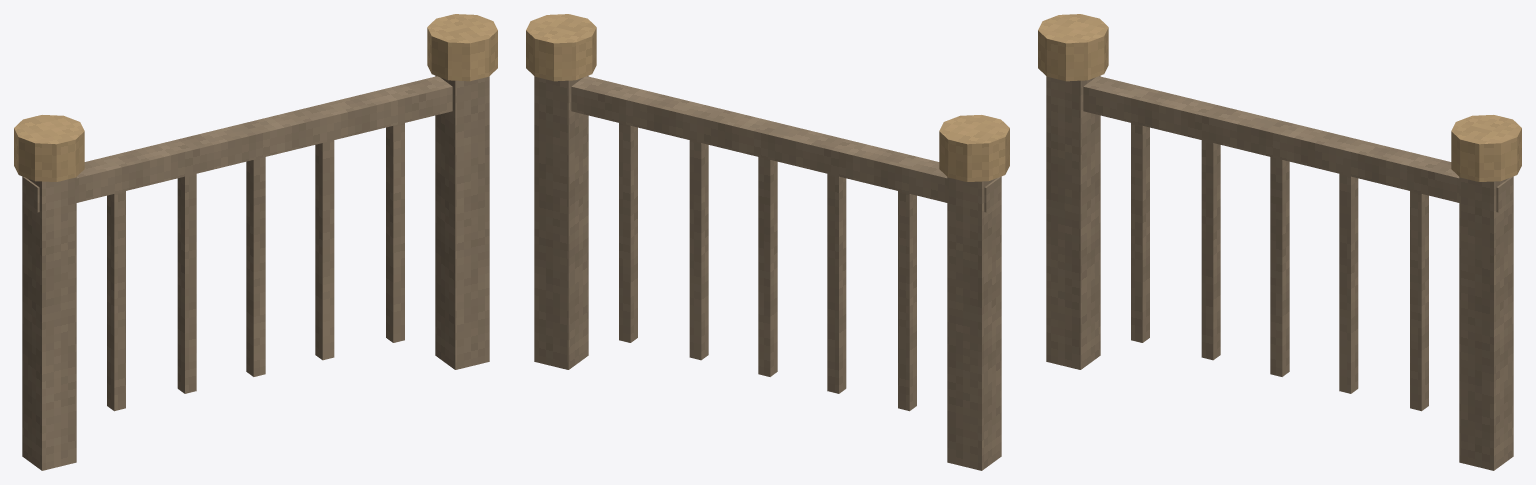
Rendered from level_blockout_grand_stair_newel.glb.
3 views of the same model, side by side, from view 1: azimuth 30°, elevation 25°; view 2: azimuth 150°, elevation 25°; view 3: azimuth 330°, elevation 25° (orthographic).
Visible parts, largest first — view 1: level_blockout_grand_stair_newel; view 2: level_blockout_grand_stair_newel; view 3: level_blockout_grand_stair_newel.
Boxes of the visible parts, x1,y1,x2,y2 form: level_blockout_grand_stair_newel: (14, 14, 497, 470); level_blockout_grand_stair_newel: (526, 14, 1009, 470); level_blockout_grand_stair_newel: (1038, 14, 1521, 470).
Size of the model in its own units: 2.62 by 1.74 by 0.3234.
Materials: 2 (2 with a texture image).
